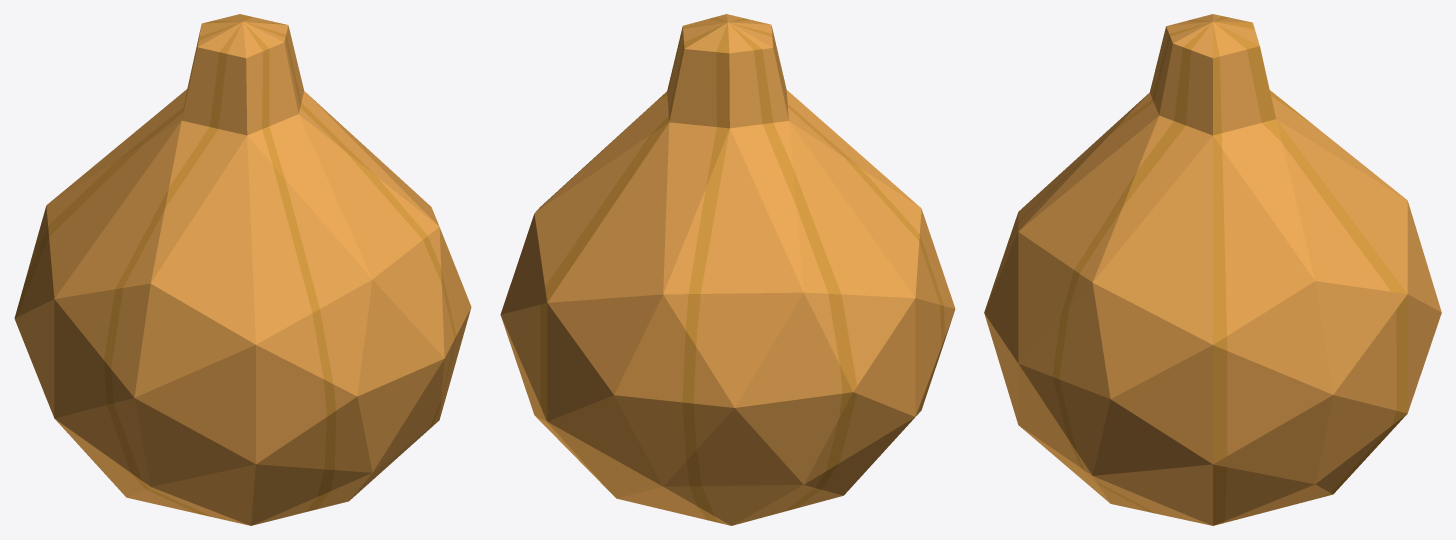
Rendered from Onion.fbx.
3 views of the same model, side by side, from view 1: azimuth 30°, elevation 25°; view 2: azimuth 150°, elevation 25°; view 3: azimuth 270°, elevation 25° (orthographic).
Visible parts, largest first — view 1: Icosphere, Icosphere.001; view 2: Icosphere, Icosphere.001; view 3: Icosphere, Icosphere.001.
Part boxes in pixels (x1,y1,x2,y2): Icosphere: [14, 14, 471, 525]; Icosphere.001: [14, 14, 456, 517]; Icosphere: [500, 14, 955, 525]; Icosphere.001: [540, 17, 945, 522]; Icosphere: [984, 14, 1441, 525]; Icosphere.001: [993, 16, 1407, 525].
Size of the model in its own units: 49.97 by 61.33 by 52.54.
